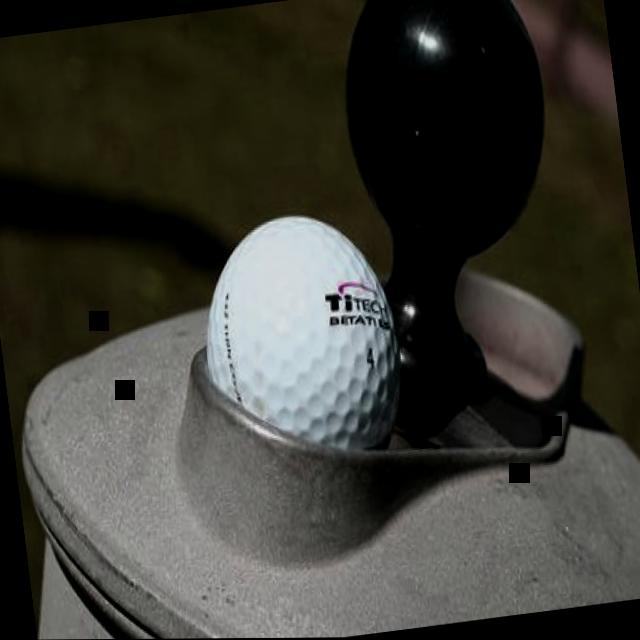golf ball: (188, 206, 420, 500)
